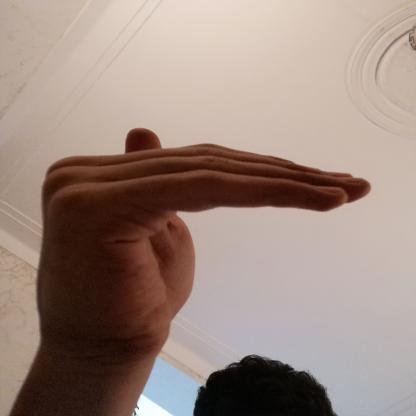KHAA: (15, 119, 392, 358)
